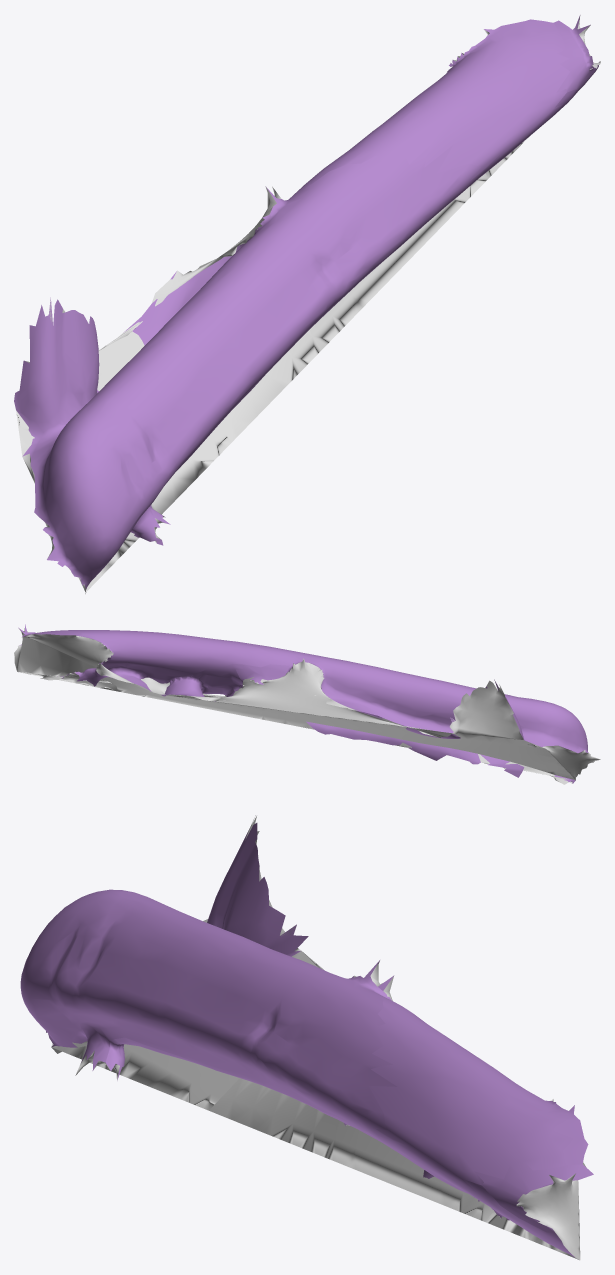
Rendered from Hi3D_Segmented Pastel Female Android 3D Model Asset_part42_20261014_192059.glb.
The picture shows the model from 3 angles, top to bottom: view 1: azimuth 30°, elevation 25°; view 2: azimuth 150°, elevation 25°; view 3: azimuth 270°, elevation 25°; orthographic projection. The views are drawn at different scales.
Parts seen in each view (by area): view 1: Hi3D_Segmented Pastel Female Android 3D Model Asset_part42_2; view 2: Hi3D_Segmented Pastel Female Android 3D Model Asset_part42_2; view 3: Hi3D_Segmented Pastel Female Android 3D Model Asset_part42_2.
Part boxes in pixels (x1,y1,x2,y2): Hi3D_Segmented Pastel Female Android 3D Model Asset_part42_2: (14,15,600,593); Hi3D_Segmented Pastel Female Android 3D Model Asset_part42_2: (14,624,600,784); Hi3D_Segmented Pastel Female Android 3D Model Asset_part42_2: (20,815,593,1260).
Bounding box in the file's own units: 0.0858 × 0.0275 × 0.0465.
